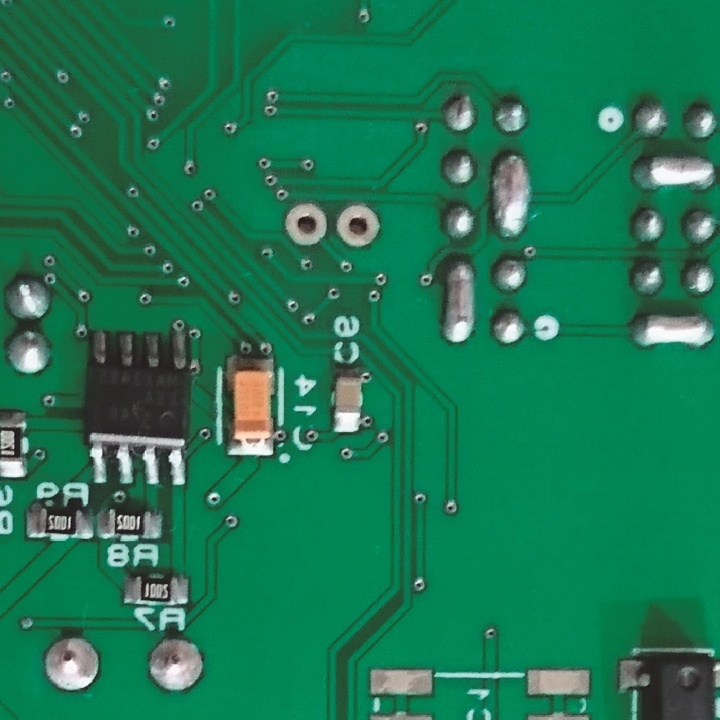F: (144, 637, 210, 695), (44, 632, 100, 689), (333, 203, 381, 252), (284, 201, 327, 249)
P: (629, 150, 720, 195), (629, 307, 715, 352), (490, 151, 529, 242), (440, 259, 478, 347)
